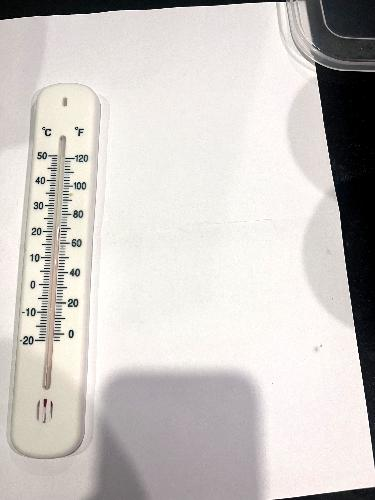thermo: (5, 83, 108, 457)
